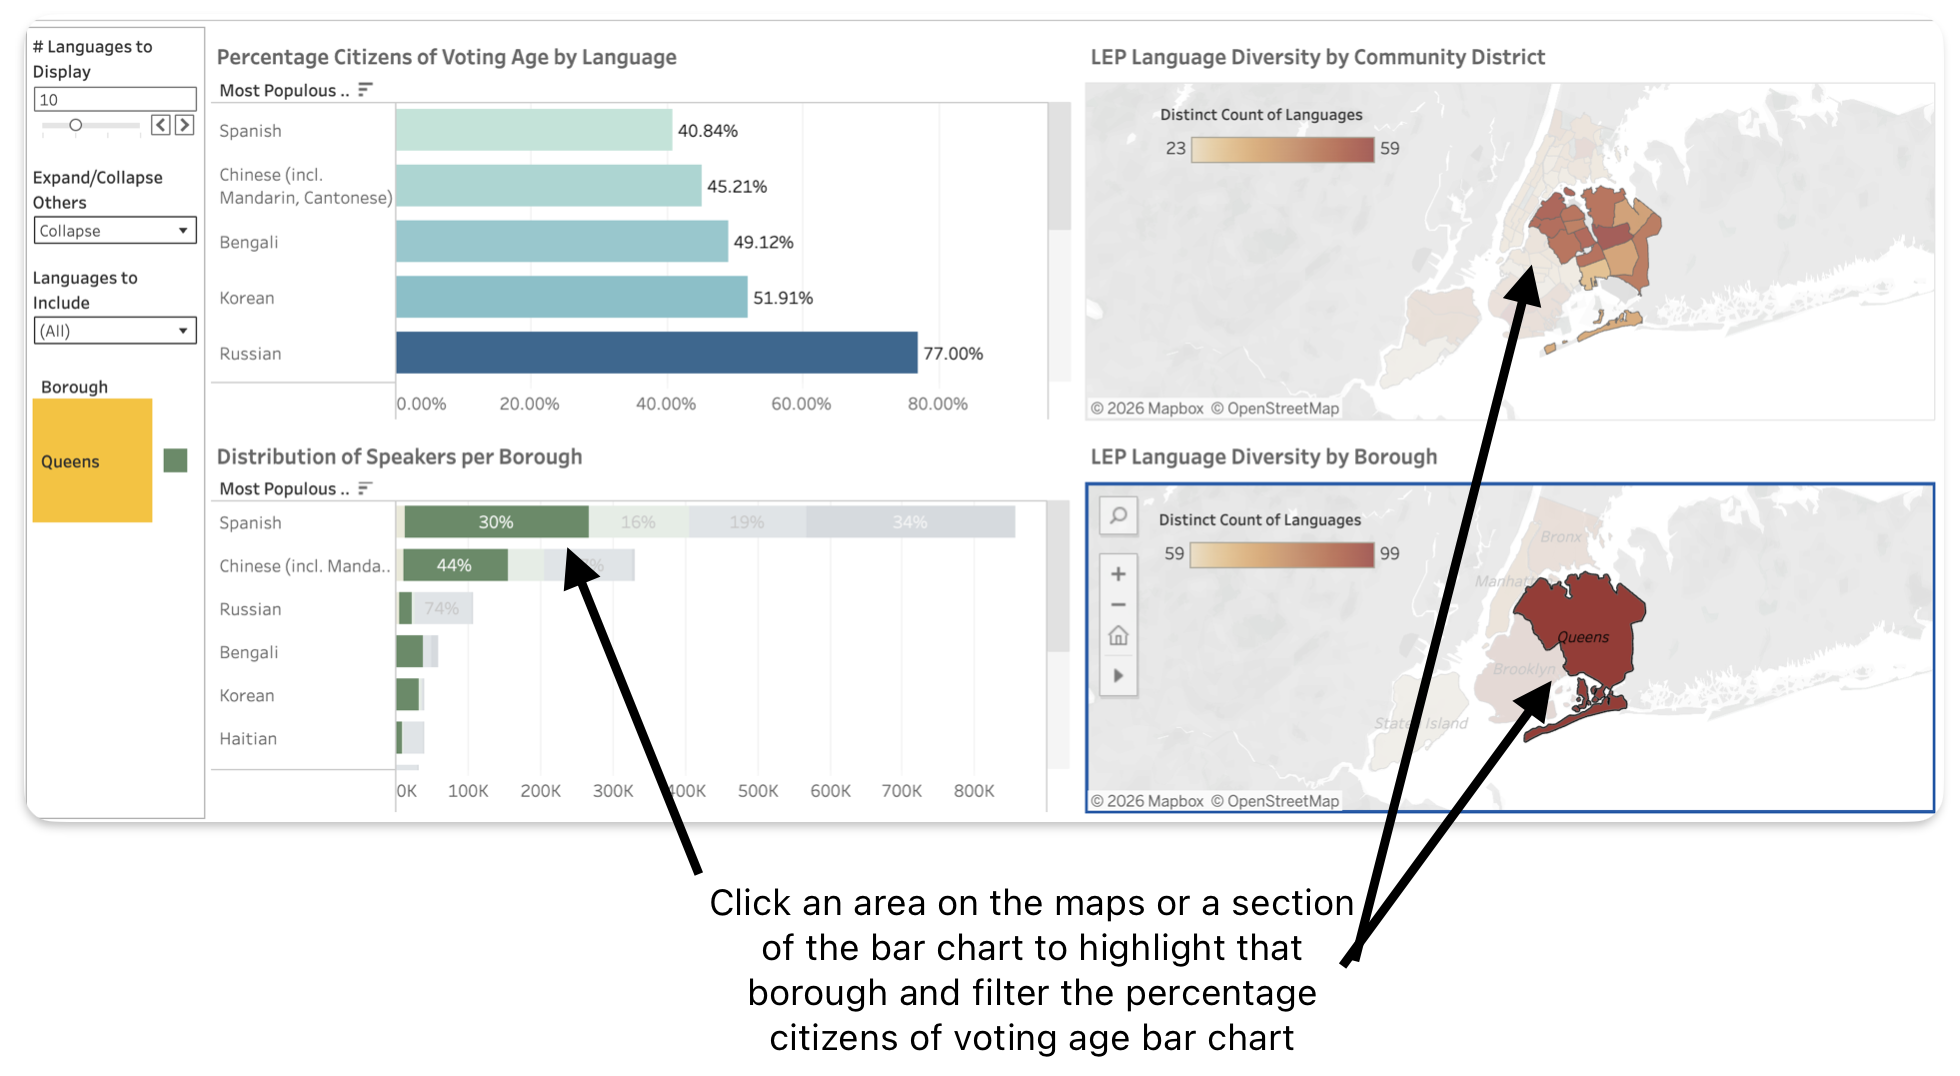

The dashboard page shown, as its layout file describes it:
{"tool":"tableau","page":{"name":"Limited English Proficiency Population in NYC","canvas":[1000,1000],"units":"permille","ordinal":0},"visuals":[{"type":"worksheet","title":"Summary","mark":"Automatic","box":[6.6,12.2,986.9,143.1]},{"type":"worksheet","title":"CVALEP % By Language","mark":"Bar","rows":["Language Set","Calculation_2582182037045250","Calculation_2582182042136580"],"cols":["Calculation_0001146189426697"],"box":[6.6,155.3,492.9,423.7]},{"type":"worksheet","title":"Community View","mark":"Automatic","box":[499.5,155.3,389.3,423.7]},{"type":"parameter","param":"[Parameters].[Parameter 1]","box":[888.9,155.3,104.6,79.3]},{"type":"legend","title":"Community View","param":"[federated.1ak7rz70sgeghc0zupvm20rg22mp].[ctd:Language:qk]","box":[549.7,231.7,97,120.4]},{"type":"parameter","param":"[Parameters].[Parameter 2]","box":[888.9,234.6,104.6,85.4]},{"type":"filter","title":"Boro Pop per Language","param":"[federated.1ak7rz70sgeghc0zupvm20rg22mp].[none:Calculation_2582182042136580:nk]","box":[888.9,319.9,104.6,112.8]},{"type":"worksheet","title":"Borough Legend","mark":"Automatic","rows":["Borough"],"box":[888.9,432.7,104.6,195.1]},{"type":"worksheet","title":"Boro Pop per Language","mark":"Automatic","rows":["Language Set","Calculation_2582182037045250","Calculation_2582182042136580"],"cols":["LEP Population (Estimate)"],"box":[6.6,579,527.5,408.8]},{"type":"worksheet","title":"Borough View","mark":"Automatic","box":[534.1,579,354.7,408.8]},{"type":"legend","title":"Borough View","param":"[federated.1ak7rz70sgeghc0zupvm20rg22mp].[ctd:Language:qk]","box":[782.2,884.1,97,96]}]}

Visuals, with their boxes on the dashboard's canvas, which has no fixed pixel size, in thousandths of its width and height (x1, y1, x2, y2). These are canvas units, not pixel positions in the 1960x1076 screenshot, which may show the page scaled, cropped or inside an application window:
"Summary" worksheet: bbox(7, 12, 994, 155)
"CVALEP % By Language" worksheet (Bar marks): bbox(7, 155, 500, 579)
"Community View" worksheet: bbox(500, 155, 889, 579)
parameter: bbox(889, 155, 994, 235)
"Community View" legend: bbox(550, 232, 647, 352)
parameter: bbox(889, 235, 994, 320)
"Boro Pop per Language" filter: bbox(889, 320, 994, 433)
"Borough Legend" worksheet: bbox(889, 433, 994, 628)
"Boro Pop per Language" worksheet: bbox(7, 579, 534, 988)
"Borough View" worksheet: bbox(534, 579, 889, 988)
"Borough View" legend: bbox(782, 884, 879, 980)
